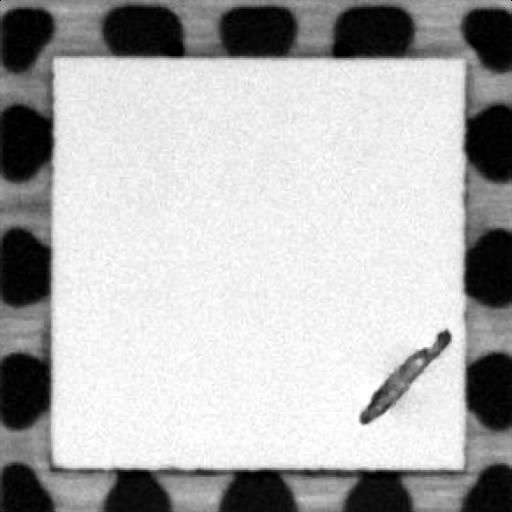DIE_INK: (354, 323, 448, 424)
